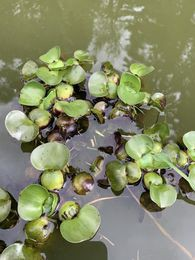water_hyacinth: (7, 39, 195, 249)
